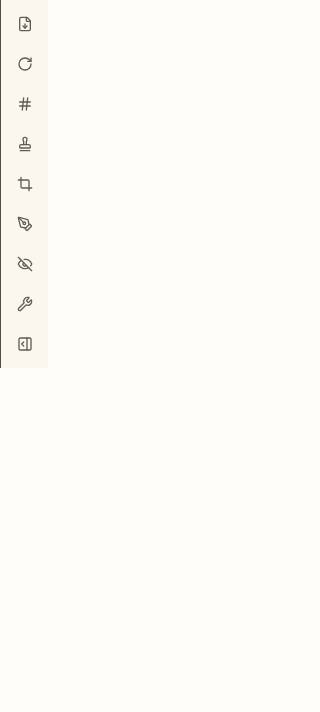
Suite 12 — PDF Editor: Tool Panels › TP-01i — keeping image resolution says the estimates no longer hold
This screenshot has width=320, height=712.
Click the button titled "Compress PDF" at (24, 24), box x1=4 y1=4 x2=44 y2=44
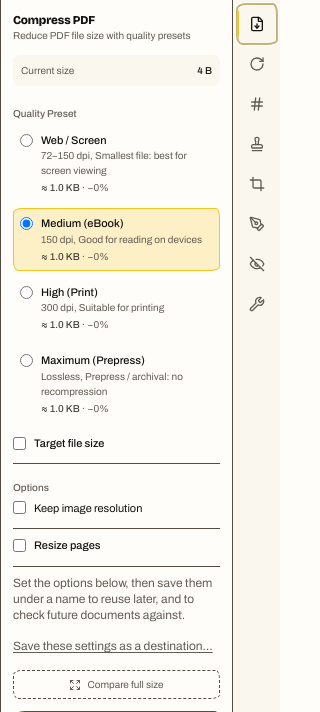
Expected: the text "estimates assume downsampling" is not shown
Click the checkbox labelled "Keep image resolution" at (20, 508), box x1=13 y1=501 x2=26 y2=514
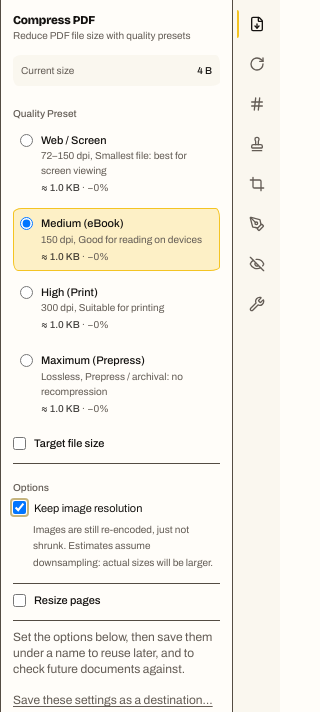
Expected: the text "Estimates assume downsampling" is shown, x1=33 y1=524 x2=213 y2=568
